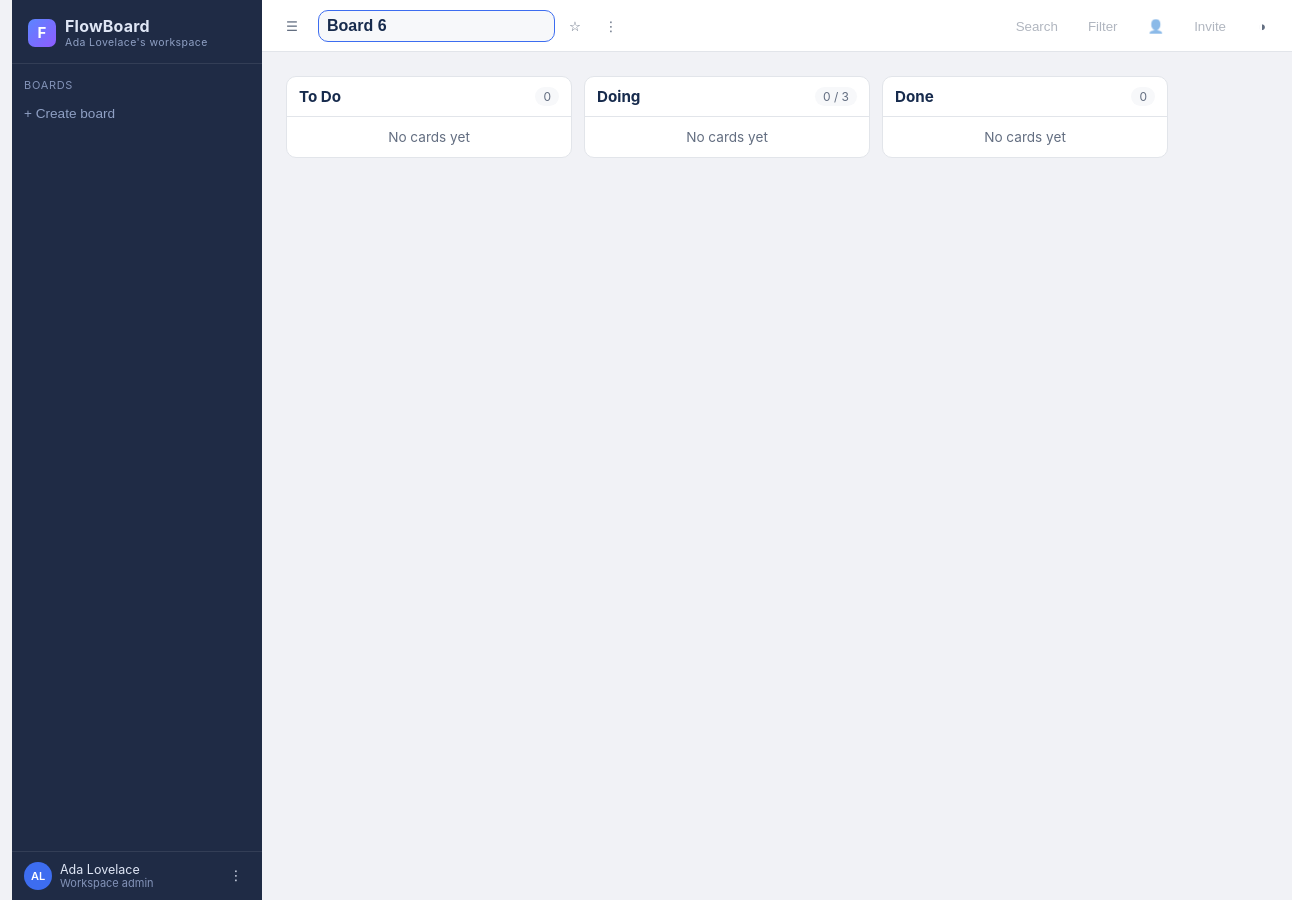
BoardTitle (FS §4.2, B-03, FB-04 spec AC 11) › a non-conflict error rolls back and shows the failed toast
Replace the text in the field named "Board name" with "My Edit" at {"x": 436, "y": 26}, box [318, 10, 555, 42]
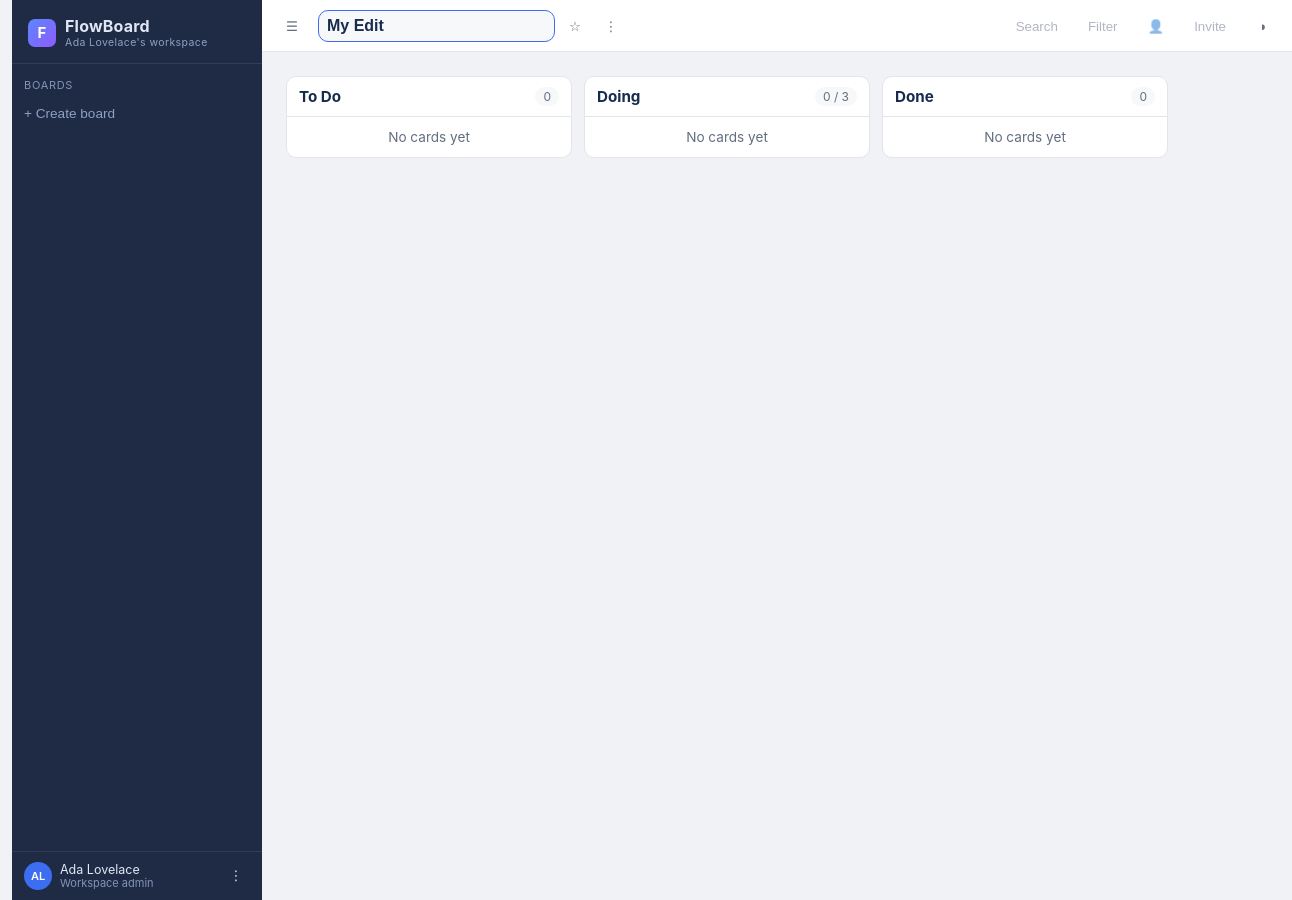
Leave the field named "Board name", box [318, 10, 555, 42]
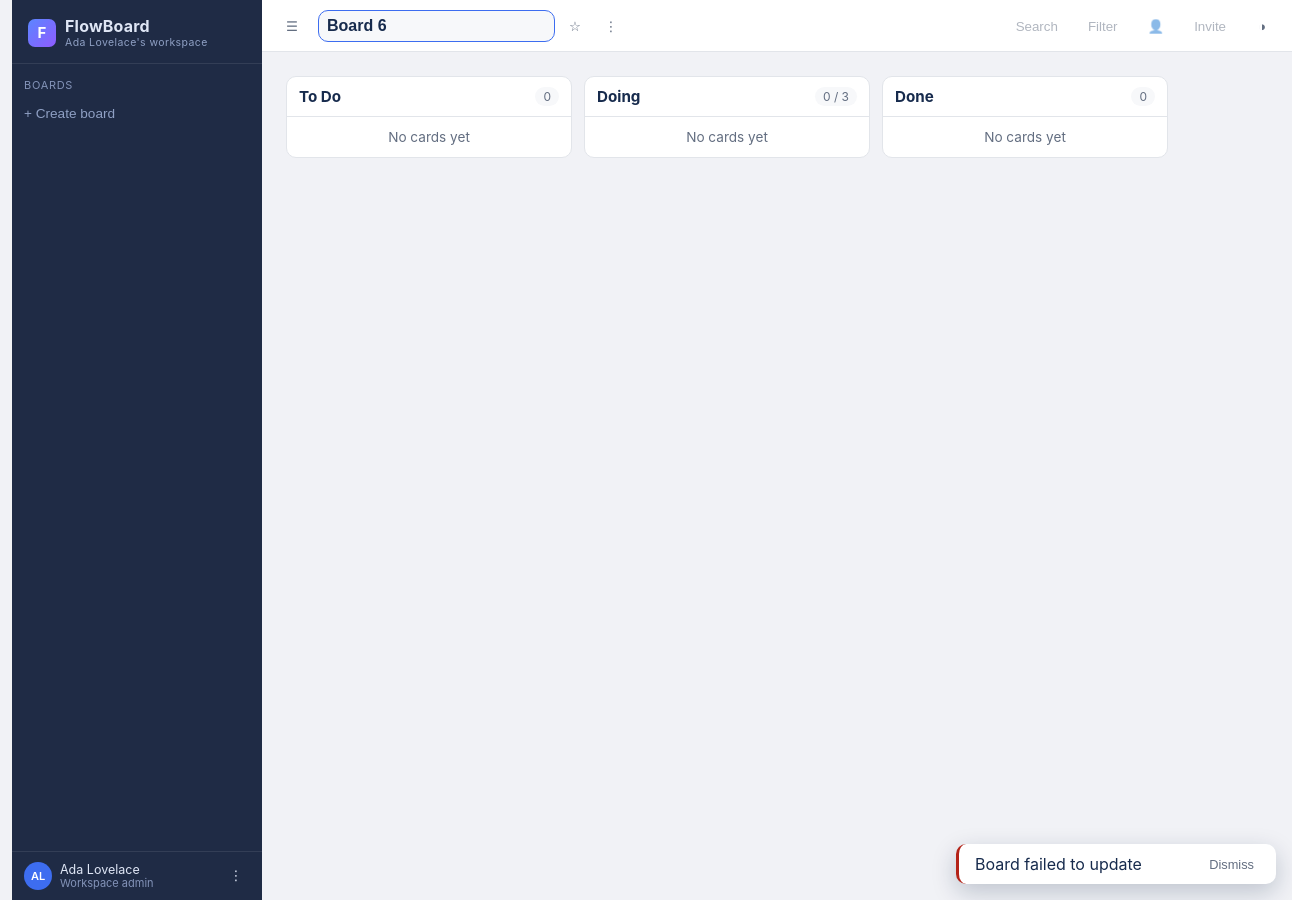
Check: the text "Board failed to update" is shown, box [975, 854, 1142, 874]
